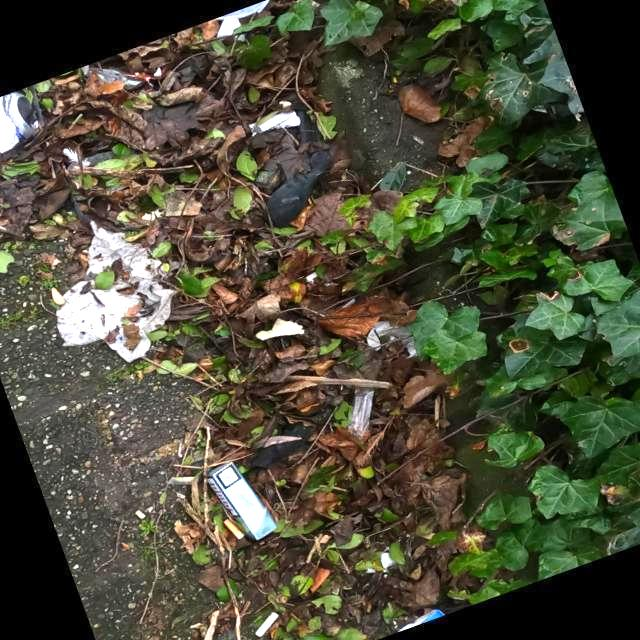Metal: (0, 90, 40, 154)
Paper: (54, 216, 178, 364), (203, 460, 280, 544)
